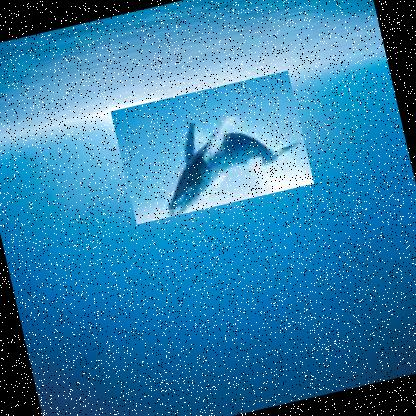blue_whale: (110, 70, 315, 226)
